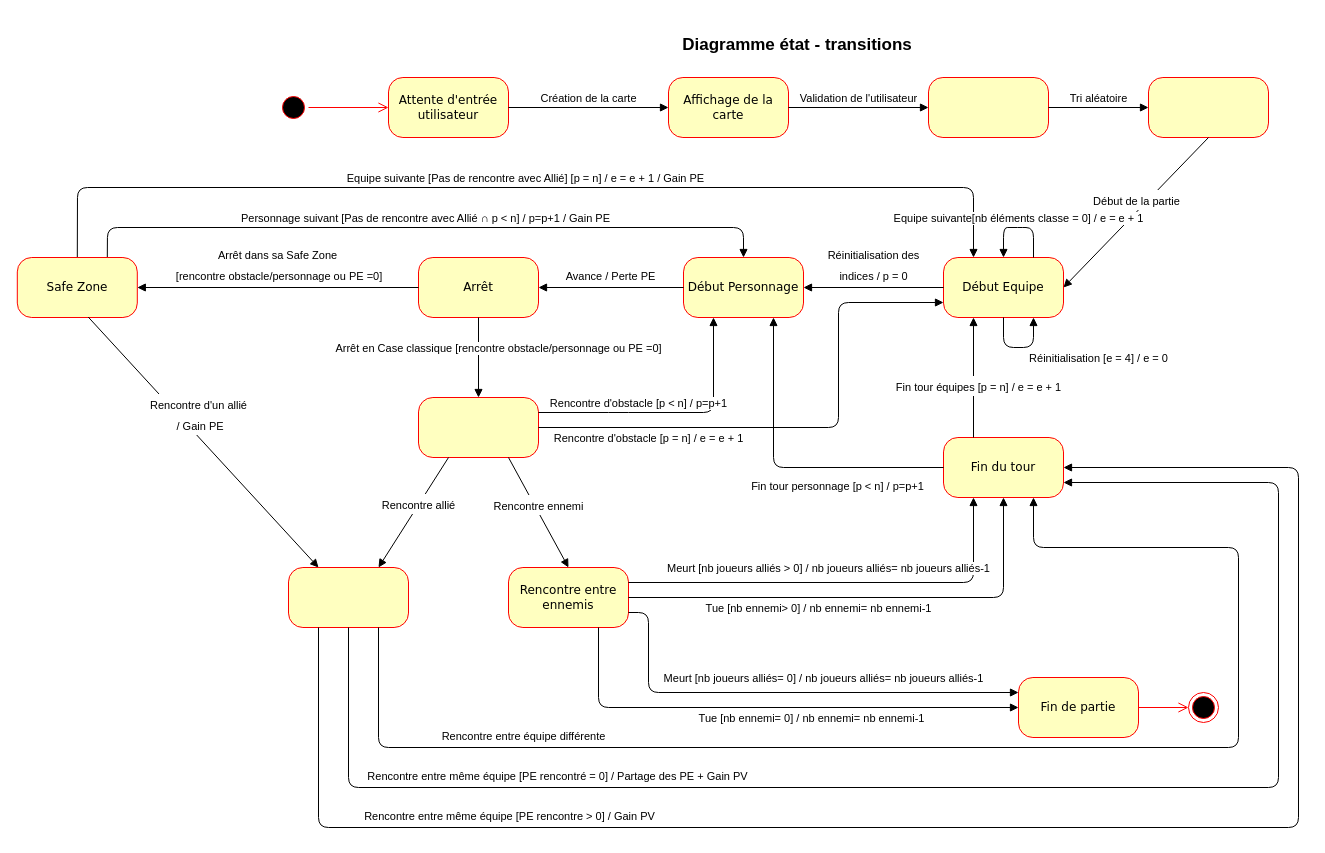
Some shapes in this 1325 by 853 pixel diagram are drawn without their labels. The shapes that lost their labels are listed below. From the top down, each one's centre as x and y in pixels, then its label:
At pixel 988 107: "Jeu Lancé".
At pixel 1208 107: "Ordre de jeu défini".
At pixel 478 427: "Case classique (non Safe Zone)".
At pixel 348 597: "Rencontre entre alliés".
